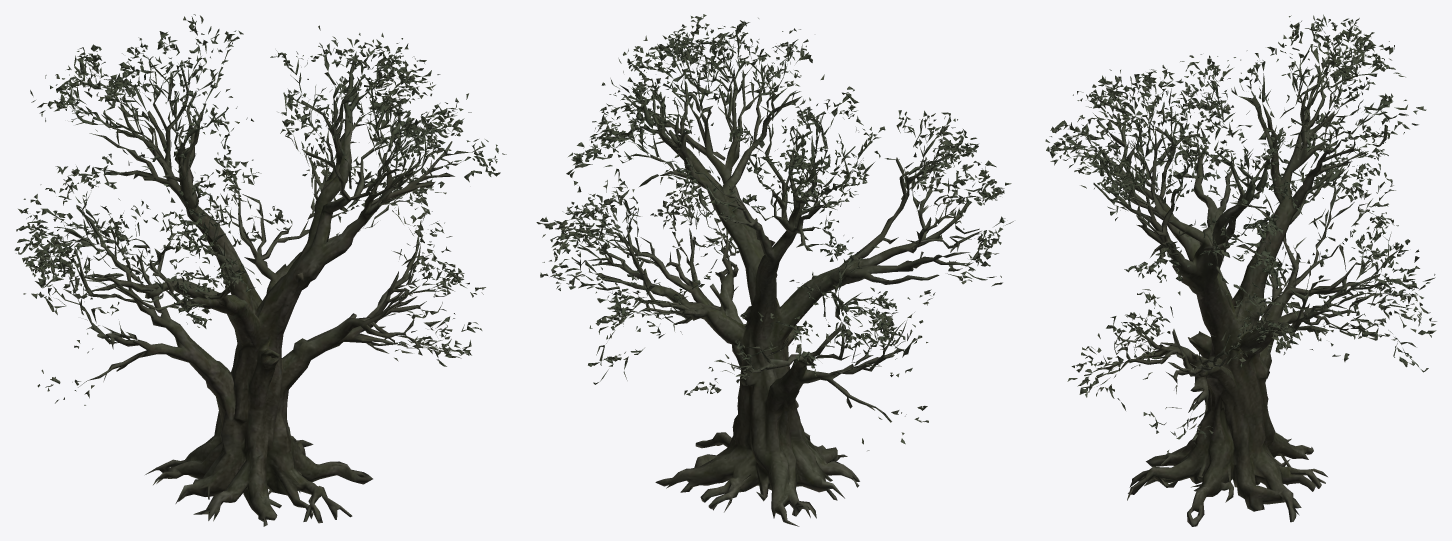
Rendered from world_tree.glb.
The picture shows the model from 3 angles, left to right: view 1: azimuth 30°, elevation 25°; view 2: azimuth 150°, elevation 25°; view 3: azimuth 270°, elevation 25°; orthographic projection. The views are drawn at different scales.
Visible parts, largest first — view 1: frame; view 2: frame; view 3: frame.
Part boxes in pixels (bbox=[...]): frame: bbox=[14, 14, 506, 526]; frame: bbox=[536, 14, 1013, 526]; frame: bbox=[1045, 14, 1436, 526].
Bounding box in the file's own units: 37.97 × 37.44 × 29.55.
1 material, 1 textured.
